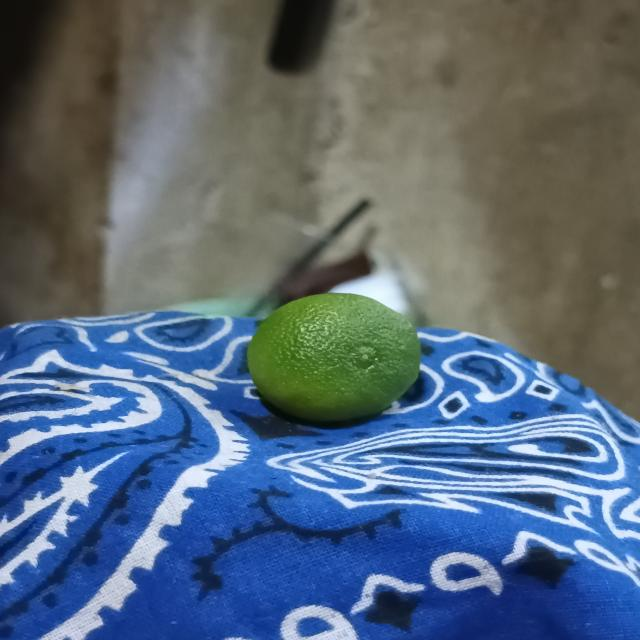heathy: (239, 294, 426, 432)
